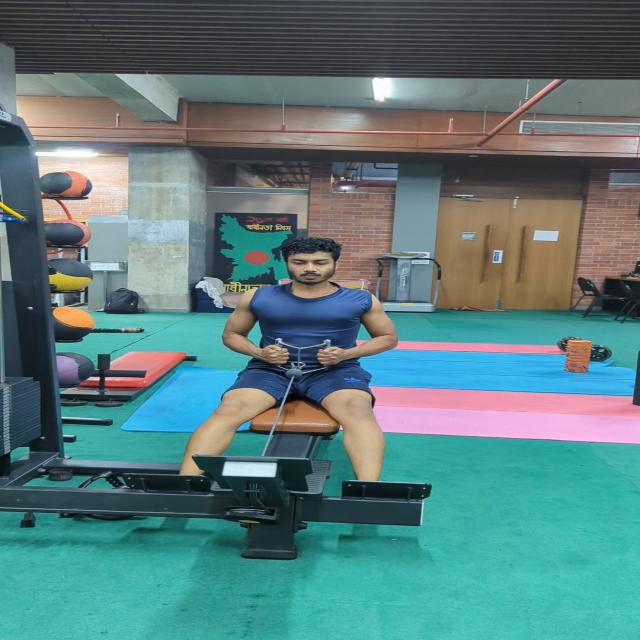Normal_RowingMachineExercise: (175, 236, 399, 484)
